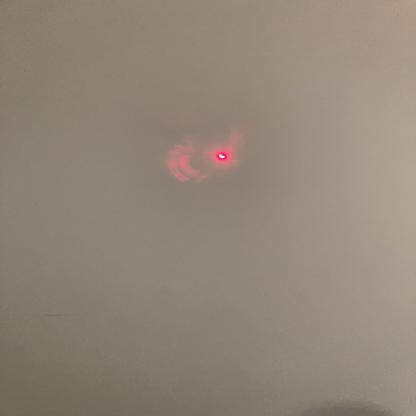target: (214, 149, 231, 168)
